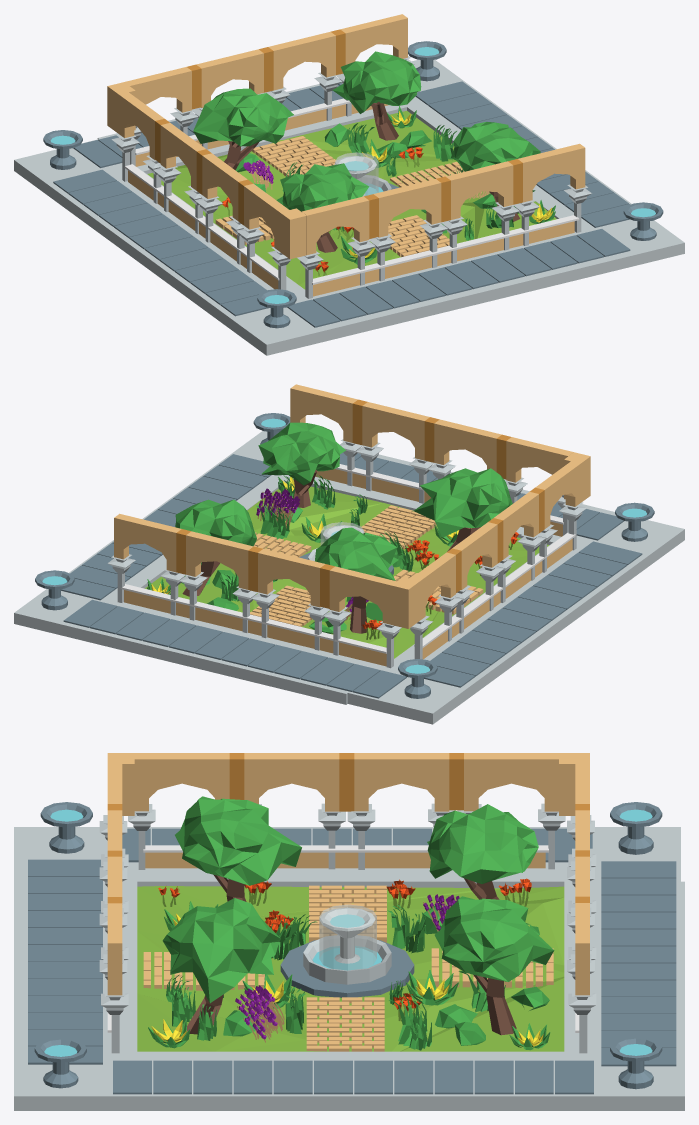
3 renders of one model, top to bottom at view 1: azimuth 30°, elevation 25°; view 2: azimuth 150°, elevation 25°; view 3: azimuth 270°, elevation 25°, orthographic. The views are drawn at different scales.
Visible parts, largest first — view 1: Node; view 2: Node; view 3: Node.
Boxes of the visible parts, x1,y1,x2,y2 form: Node: (14,14,684,355); Node: (14,384,684,724); Node: (14,753,684,1110).
Size of the model in its own units: 4.76 by 1.08 by 5.01.
2 materials, 2 textured.
